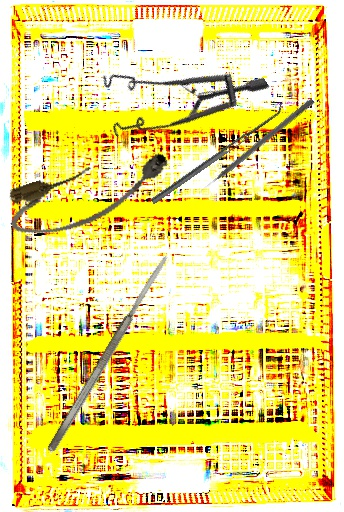Cannula: (1, 142, 180, 246)
Pusher: (195, 96, 316, 196)
Spatula Surgical: (44, 251, 174, 455), (147, 101, 287, 205)
Speculum: (83, 0, 270, 177)
